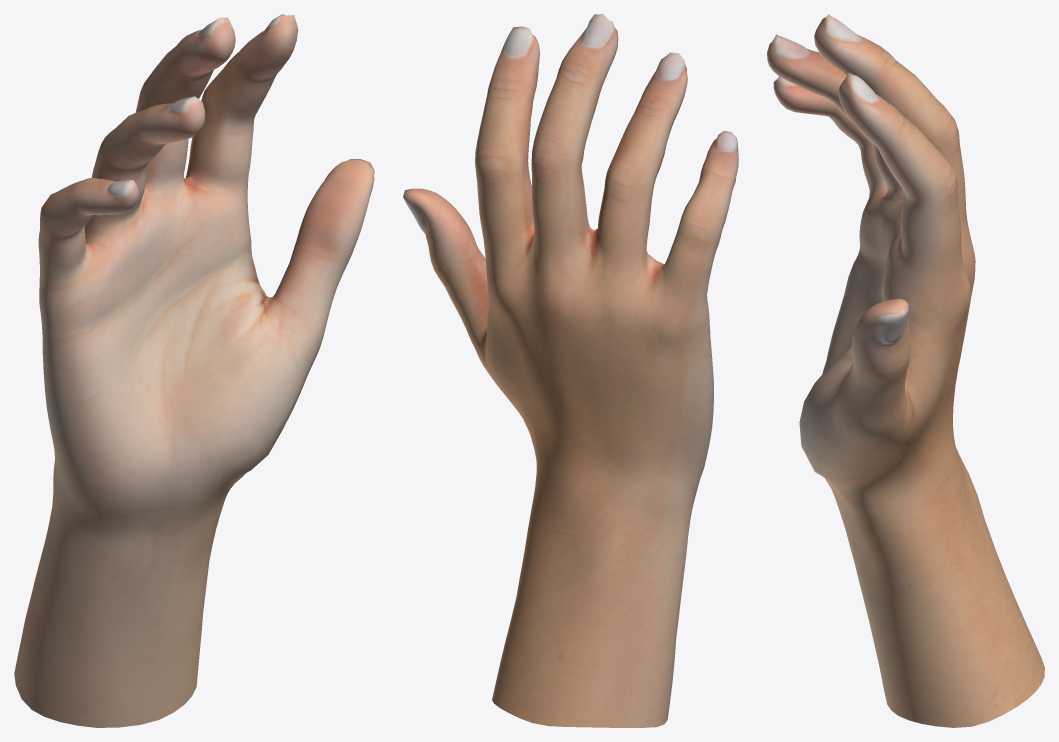
File: hand.glb
The picture shows the model from 3 angles, left to right: view 1: azimuth 30°, elevation 25°; view 2: azimuth 150°, elevation 25°; view 3: azimuth 270°, elevation 25°; orthographic projection. The views are drawn at different scales.
Visible parts, largest first — view 1: Object_2; view 2: Object_2; view 3: Object_2.
Part boxes in pixels (bbox=[...]): Object_2: bbox=[14, 14, 374, 727]; Object_2: bbox=[403, 14, 738, 727]; Object_2: bbox=[767, 14, 1044, 727].
Bounding box in the file's own units: 12.24 × 24.96 × 8.92.
Materials: 1 (1 with a texture image).
